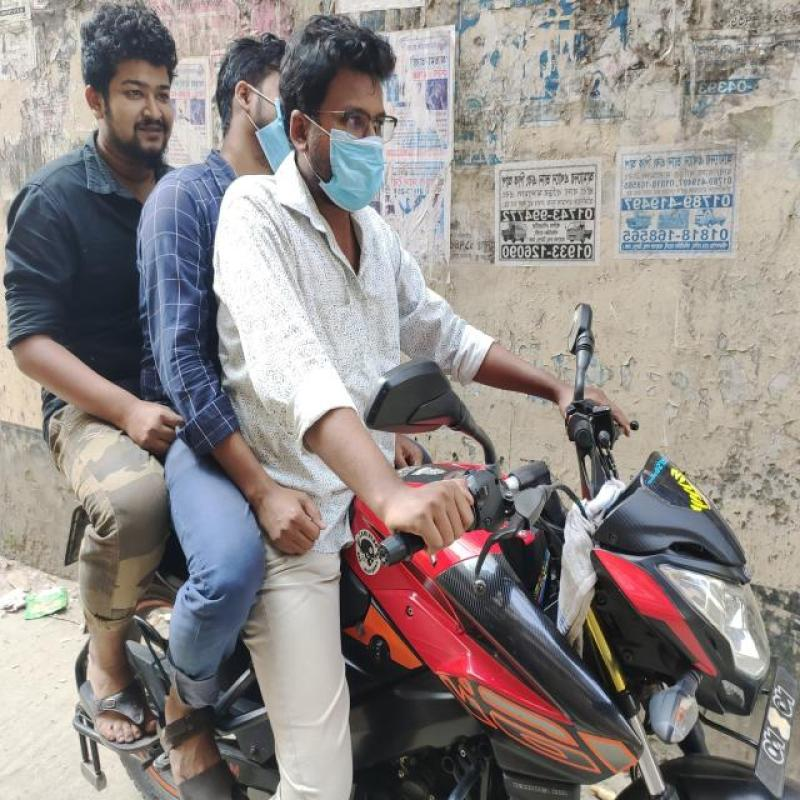nohelmet: (276, 15, 412, 226), (70, 3, 181, 168), (210, 30, 288, 158)
